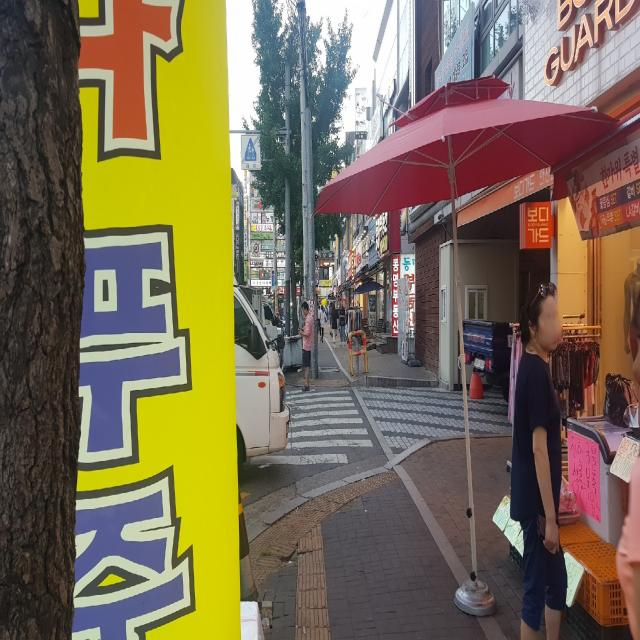횡단보도: (250, 388, 373, 466)
